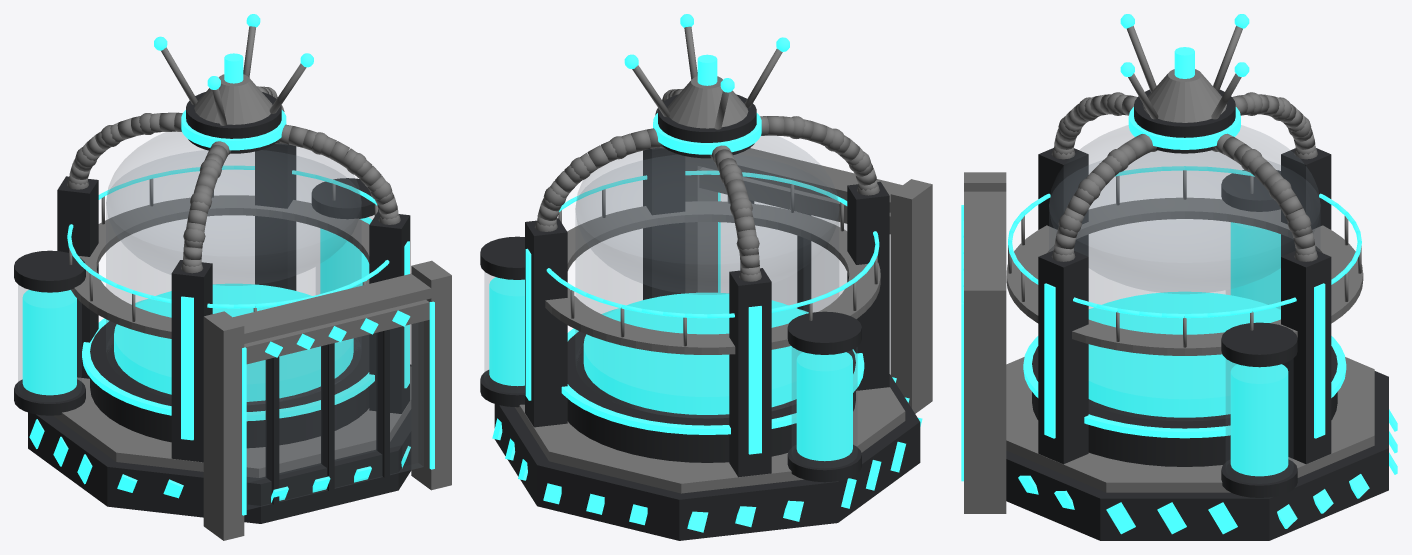
The model's file is MonsterVat_VEX.glb.
The picture shows the model from 3 angles, left to right: view 1: azimuth 30°, elevation 25°; view 2: azimuth 150°, elevation 25°; view 3: azimuth 270°, elevation 25°; orthographic projection. The views are drawn at different scales.
Visible parts, largest first — view 1: MonsterVat_VEX, MonsterVat_VEX_Gate; view 2: MonsterVat_VEX, MonsterVat_VEX_Gate; view 3: MonsterVat_VEX.
Part boxes in pixels (x1=…): MonsterVat_VEX: x1=14, y1=14, x2=451, y2=540; MonsterVat_VEX_Gate: x1=244, y1=300, x2=429, y2=509; MonsterVat_VEX: x1=480, y1=14, x2=932, y2=540; MonsterVat_VEX_Gate: x1=699, y1=167, x2=890, y2=373; MonsterVat_VEX: x1=961, y1=14, x2=1397, y2=540.
Bounding box in the file's own units: 5.2 × 5.41 × 5.14.
